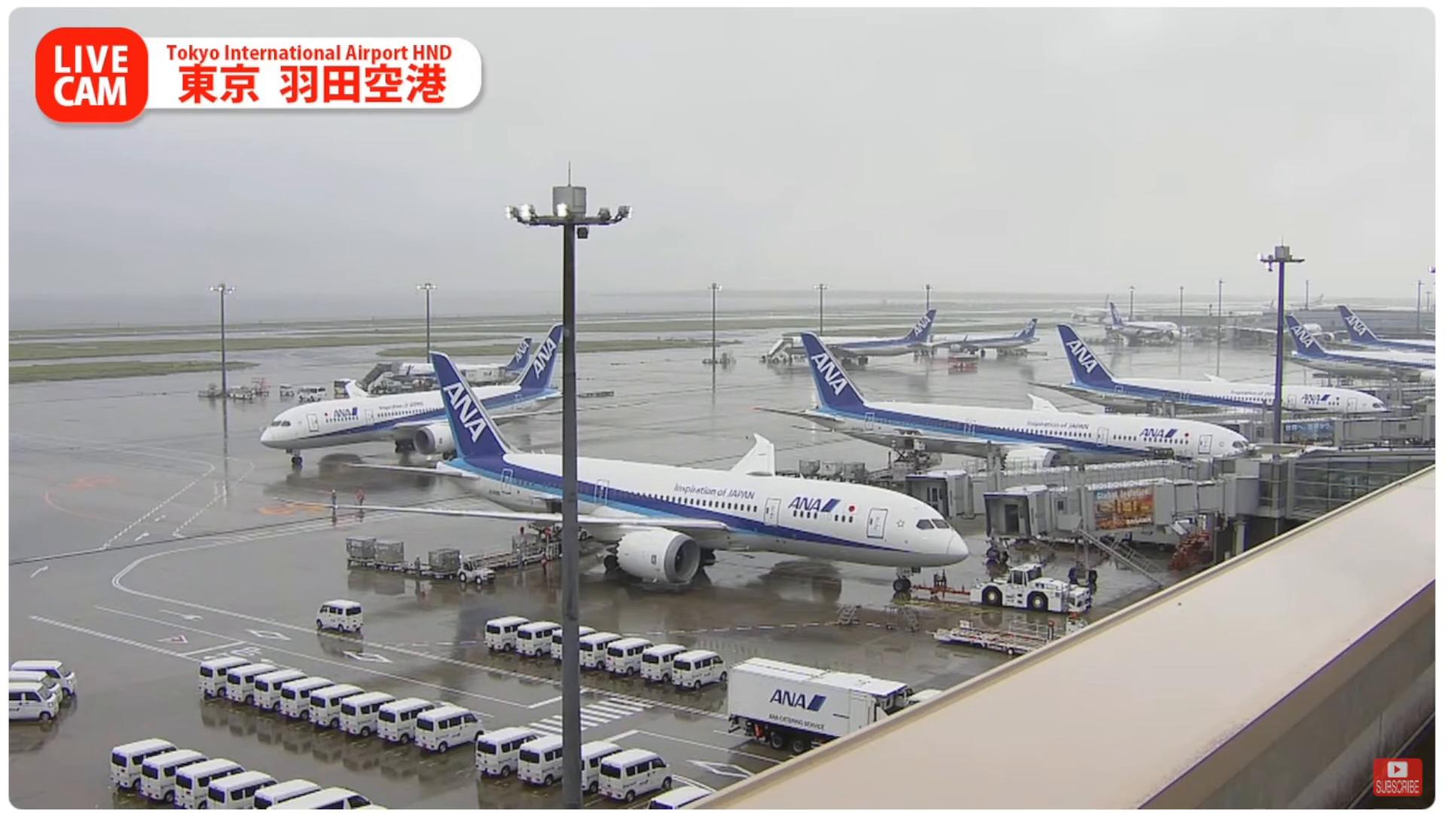APS: (968, 562, 1094, 614)
Aerobridge: (898, 474, 1254, 535), (904, 455, 1233, 482)
Airplane: (270, 351, 970, 592)
Catering: (727, 656, 943, 755)
Dolly: (348, 556, 458, 580)
JCPL: (924, 613, 1089, 655), (476, 525, 561, 570)
Tractor: (458, 555, 496, 585)
Window: (1292, 458, 1433, 516)
